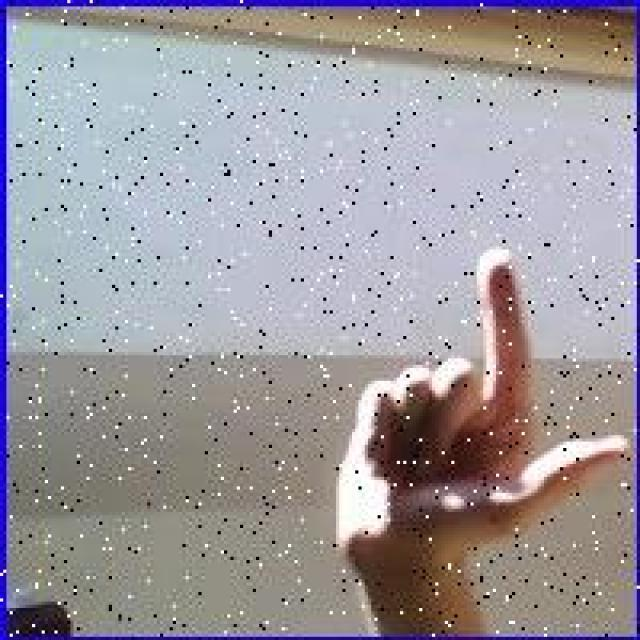L: (328, 243, 632, 608)
